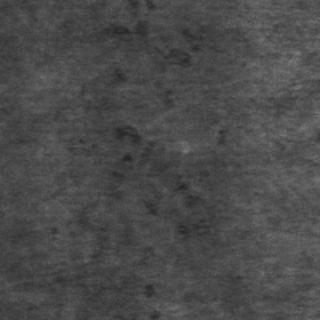rolled pit: (107, 120, 203, 234)
